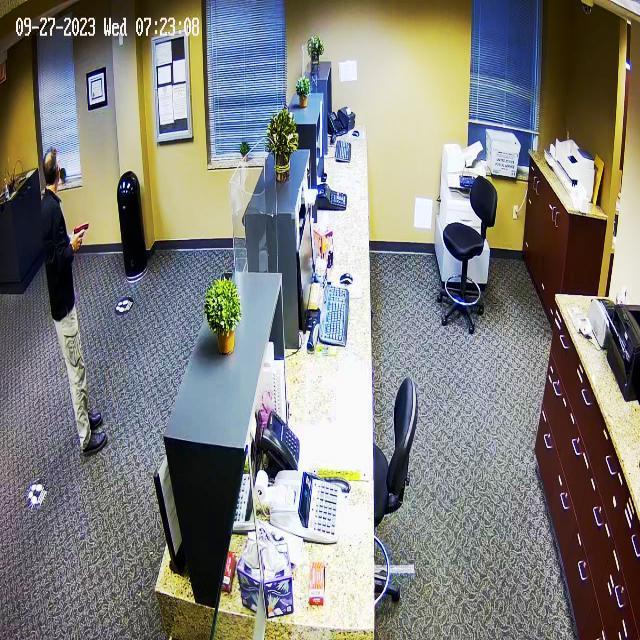Gun: (68, 210, 104, 251)
